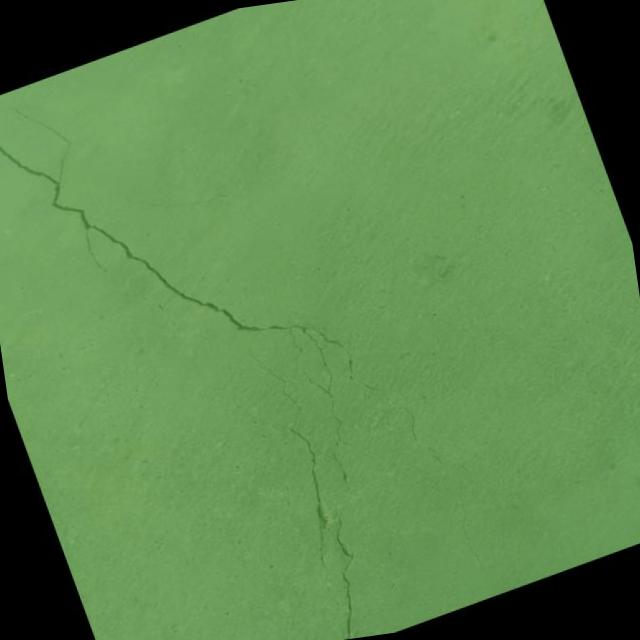crack: (0, 0, 409, 587), (240, 332, 370, 615), (300, 513, 384, 640), (444, 475, 496, 577), (428, 434, 473, 488), (392, 402, 424, 446), (365, 378, 386, 398)
